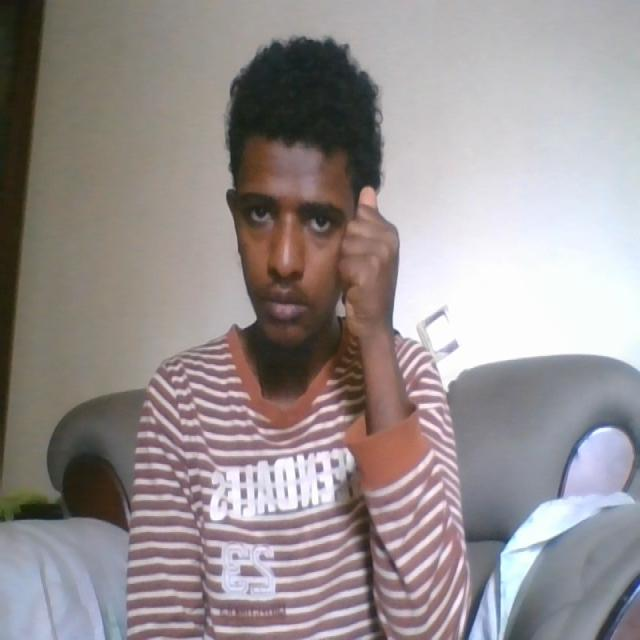agot: (314, 181, 404, 345)
